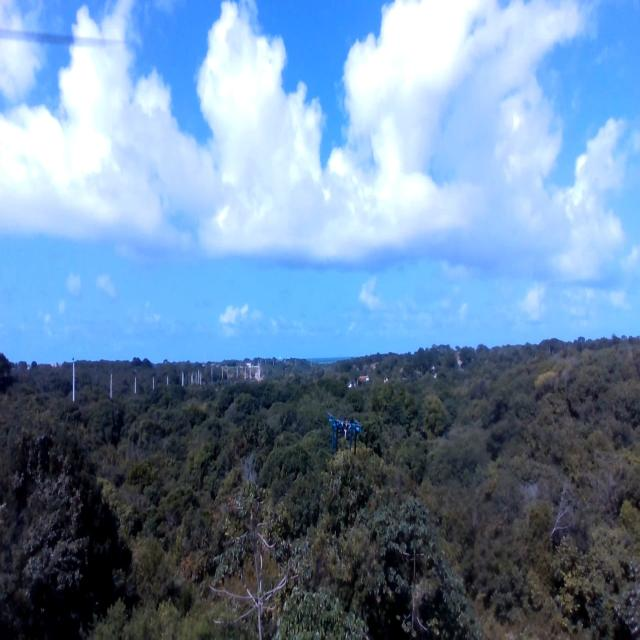-uav-: (322, 402, 368, 466)
